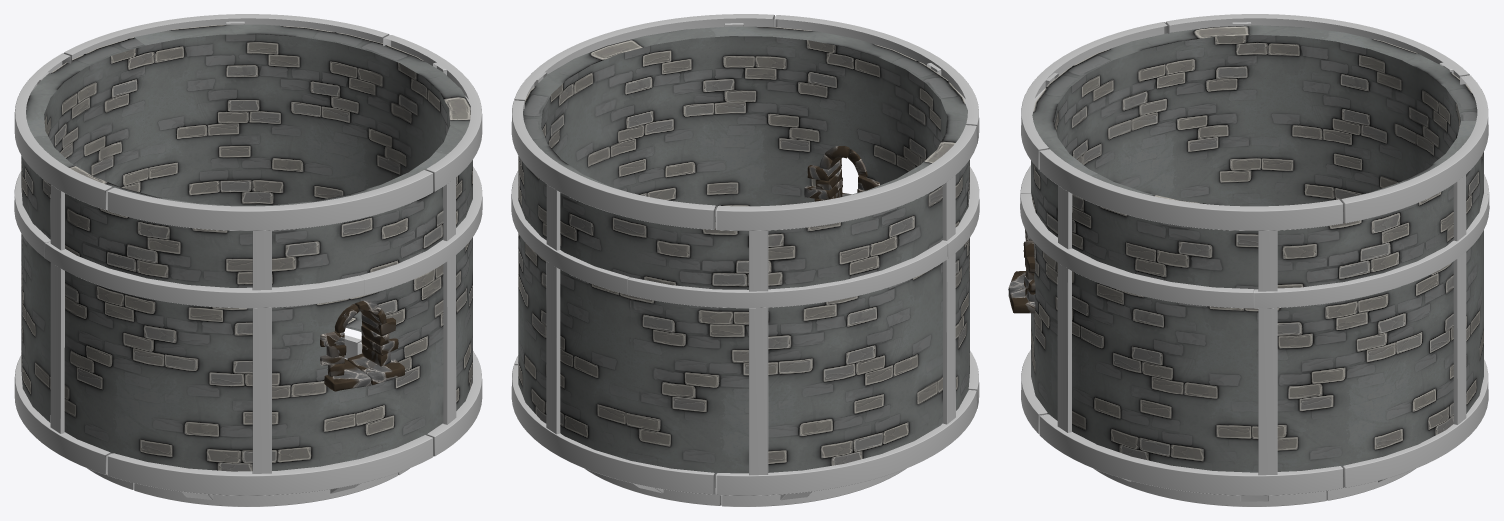
The model's file is SM_Tower_Top_Windows.fbx.
The picture shows the model from 3 angles, left to right: view 1: azimuth 30°, elevation 25°; view 2: azimuth 150°, elevation 25°; view 3: azimuth 270°, elevation 25°; orthographic projection.
Visible parts, largest first — view 1: SM_Tower_Top_Windows_LOD0; view 2: SM_Tower_Top_Windows_LOD0; view 3: SM_Tower_Top_Windows_LOD0.
Part boxes in pixels (box(x1,y1,x2,y2)): SM_Tower_Top_Windows_LOD0: box(14, 14, 482, 506); SM_Tower_Top_Windows_LOD0: box(511, 14, 979, 506); SM_Tower_Top_Windows_LOD0: box(1008, 14, 1489, 506).
Size of what is drawn, in the model's own units: 17.48 by 12.94 by 17.92.
